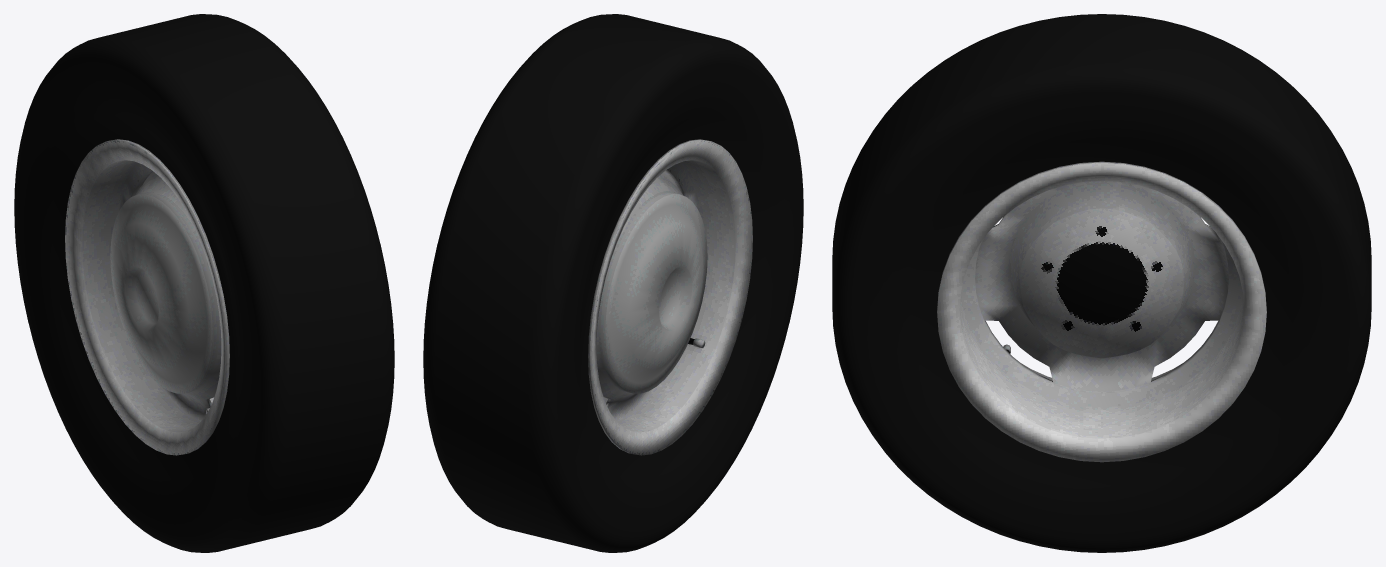
Rendered from gaz_24_24_volga_wheel_front_left.glb.
3 renders of one model, left to right at view 1: azimuth 30°, elevation 25°; view 2: azimuth 150°, elevation 25°; view 3: azimuth 270°, elevation 25°, orthographic. The views are drawn at different scales.
Visible parts, largest first — view 1: GAZ24_Wheel_front_left; view 2: GAZ24_Wheel_front_left; view 3: GAZ24_Wheel_front_left.
Part boxes in pixels (bbox=[...]): GAZ24_Wheel_front_left: bbox=[14, 14, 394, 552]; GAZ24_Wheel_front_left: bbox=[423, 14, 803, 552]; GAZ24_Wheel_front_left: bbox=[832, 14, 1371, 552].
Bounding box in the file's own units: 0.185 × 0.6516 × 0.6516.
Materials: 1 (1 with a texture image).
